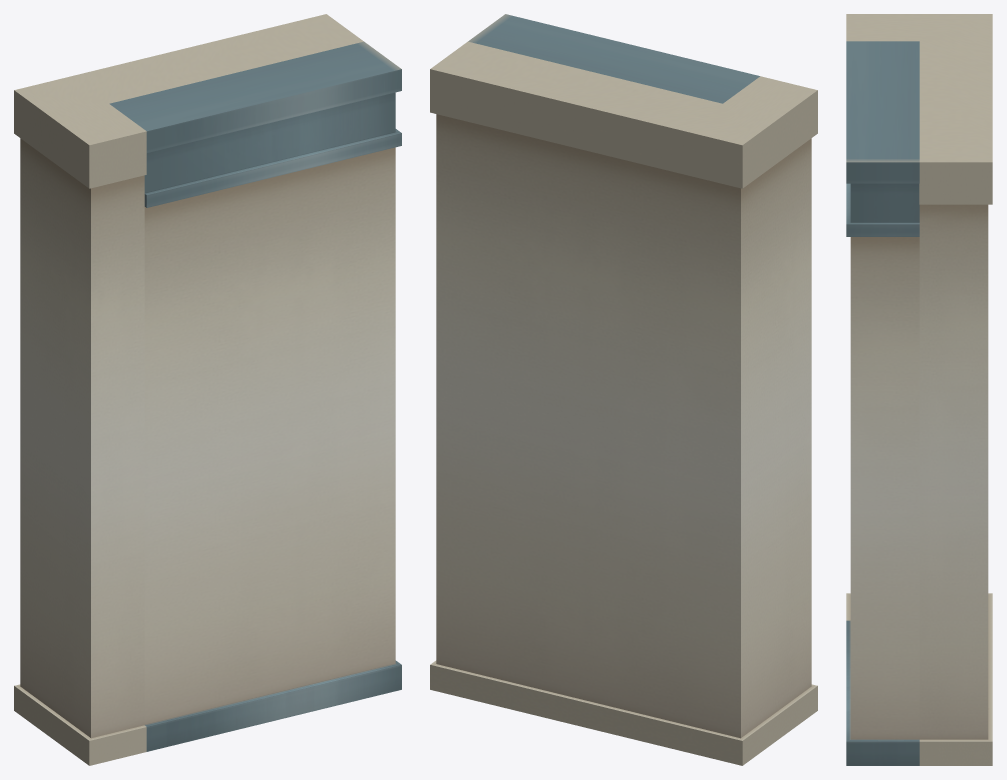
Rendered from SHW_Pillar_01_20.fbx.
The picture shows the model from 3 angles, left to right: view 1: azimuth 30°, elevation 25°; view 2: azimuth 150°, elevation 25°; view 3: azimuth 270°, elevation 25°; orthographic projection. The views are drawn at different scales.
Visible parts, largest first — view 1: shw_pillar_01_20; view 2: shw_pillar_01_20; view 3: shw_pillar_01_20.
Boxes of the visible parts, left/top/right/bottom form: shw_pillar_01_20: left=14, top=14, right=401, bottom=765; shw_pillar_01_20: left=430, top=14, right=817, bottom=765; shw_pillar_01_20: left=846, top=14, right=992, bottom=765.
Size of the model in its own units: 158 by 300 by 66.
